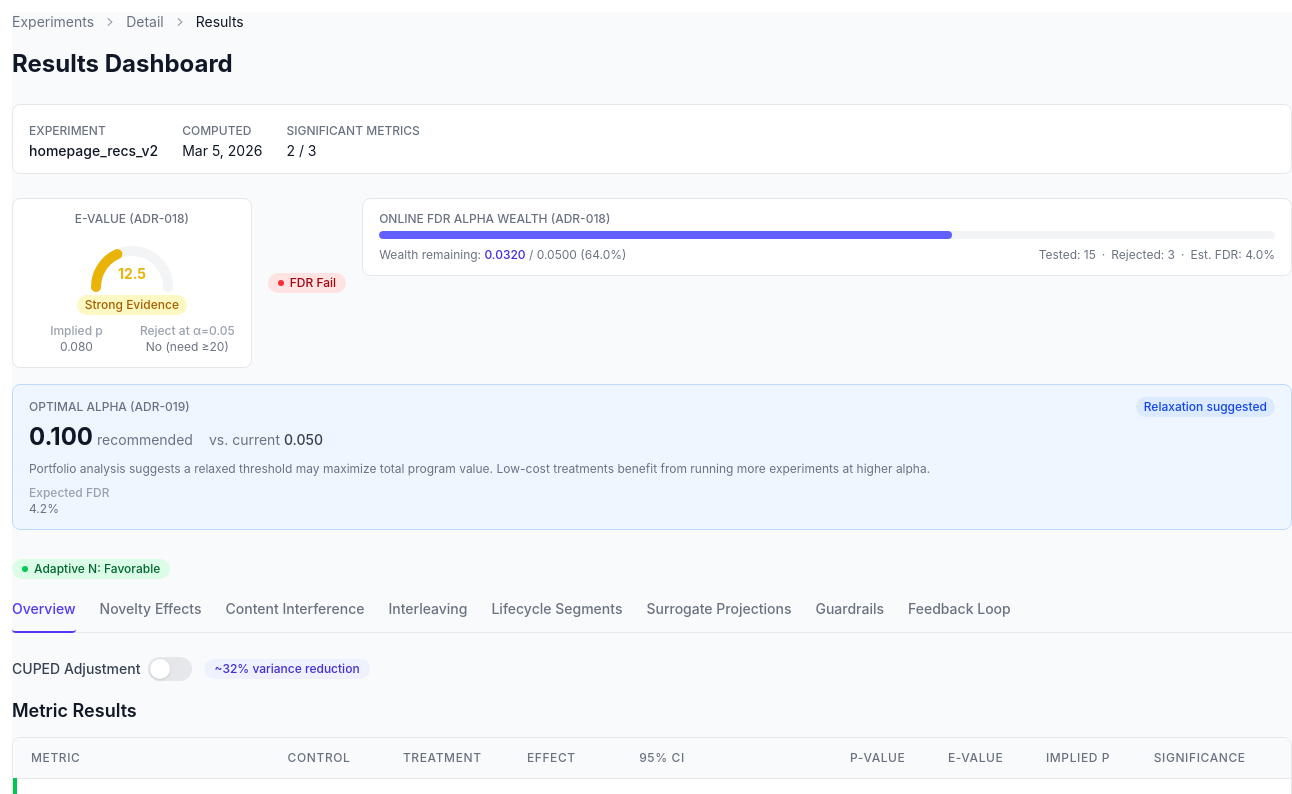
Test: Analysis Tabs - Tab Navigation › switches to Interference tab when clicked
Click the tab "Content Interference".
click(295, 614)  # box [226,595,364,633]
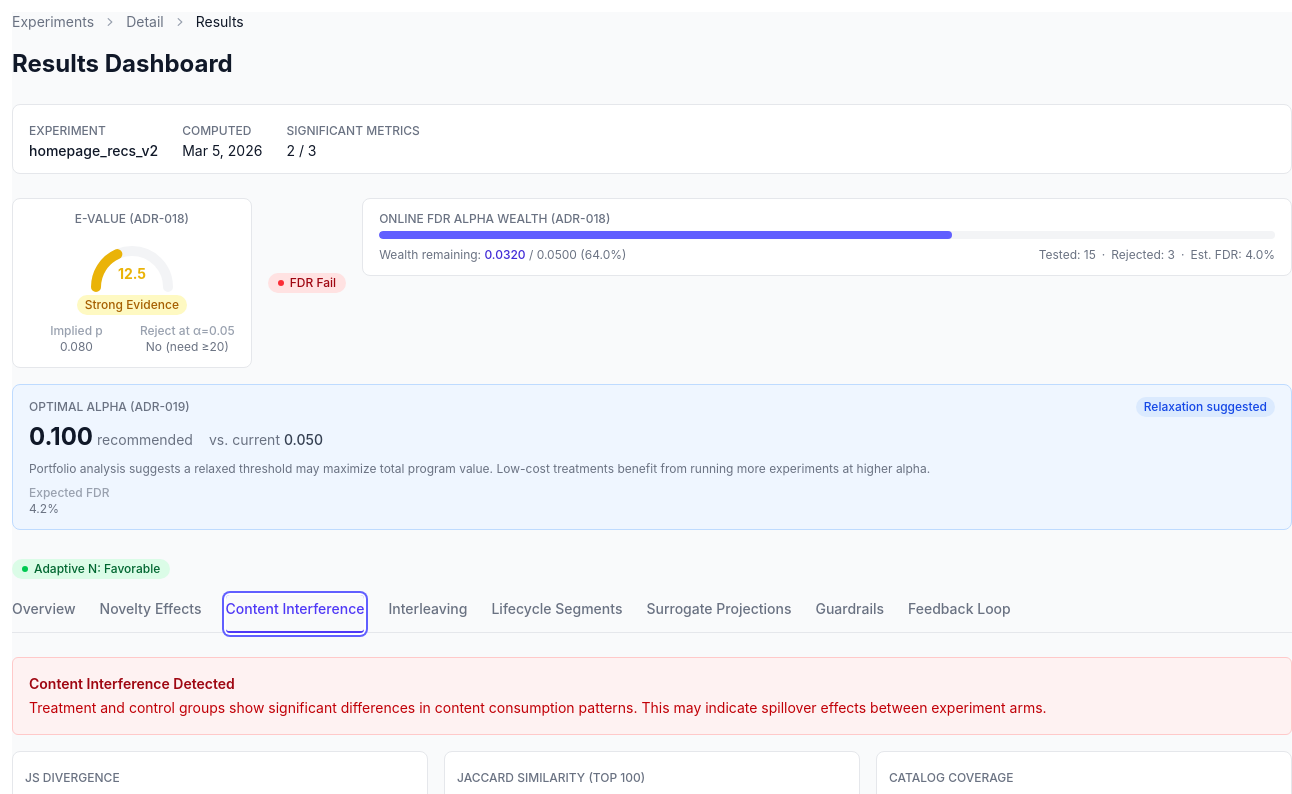
Expected: the heading "Content Interference Detected" is shown, [29,675,235,692]
